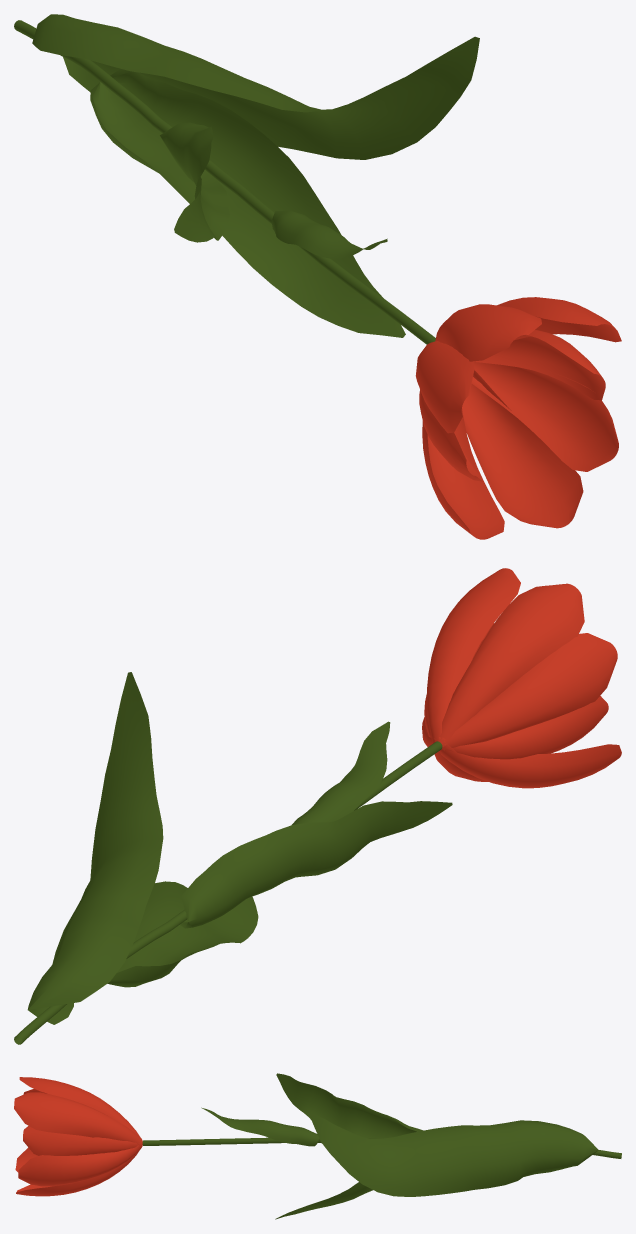
Rendered from Tulpen_002.dae.
3 renders of one model, top to bottom at view 1: azimuth 30°, elevation 25°; view 2: azimuth 150°, elevation 25°; view 3: azimuth 270°, elevation 25°, orthographic. The views are drawn at different scales.
Visible parts, largest first — view 1: tulips3Leaf, tulips3Flower, tulips3Main; view 2: tulips3Leaf, tulips3Flower, tulips3Main; view 3: tulips3Leaf, tulips3Flower, tulips3Main.
Boxes of the visible parts, left/top/right/bottom form: tulips3Leaf: left=32, top=14, right=479, bottom=337; tulips3Flower: left=415, top=297, right=621, bottom=539; tulips3Main: left=14, top=20, right=435, bottom=344; tulips3Leaf: left=27, top=672, right=452, bottom=1024; tulips3Flower: left=422, top=568, right=621, bottom=788; tulips3Main: left=14, top=741, right=442, bottom=1044; tulips3Leaf: left=201, top=1073, right=598, bottom=1219; tulips3Flower: left=14, top=1077, right=142, bottom=1196; tulips3Main: left=142, top=1137, right=621, bottom=1158.
Bounding box in the file's own units: 7.41 × 5.32 × 21.56.
